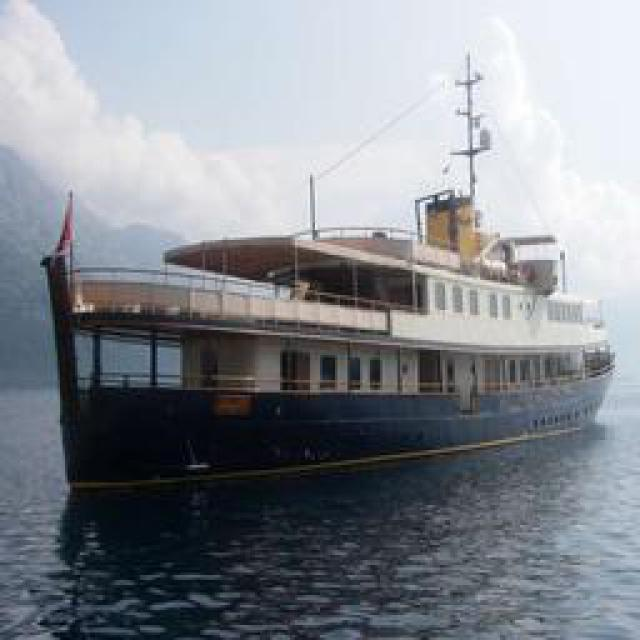Ship: (47, 188, 620, 496)
